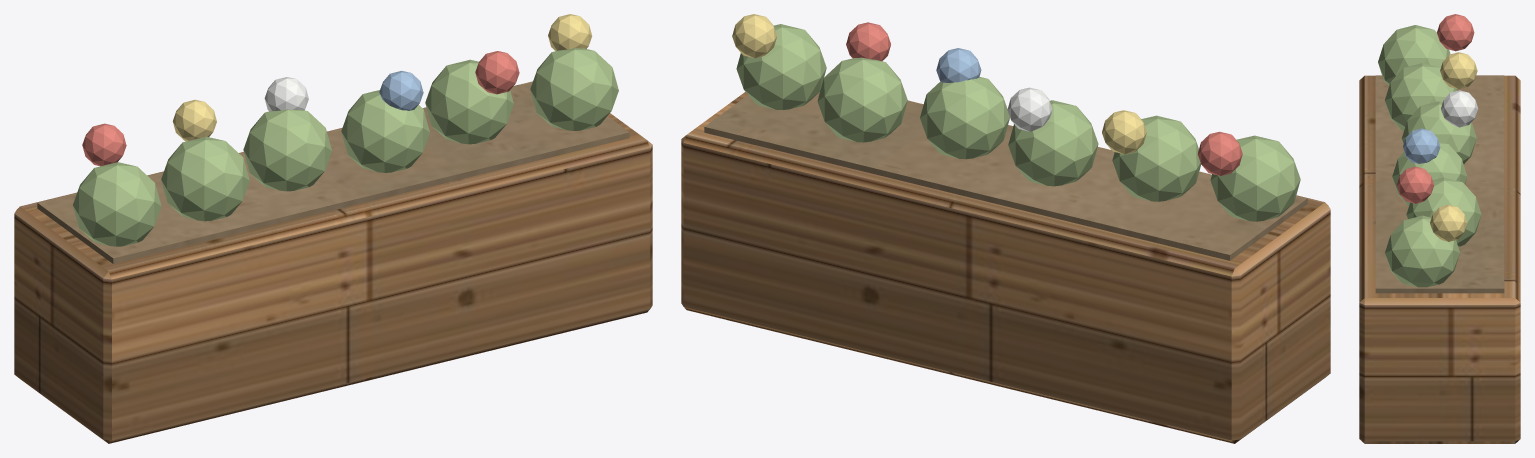
Rendered from planter.glb.
3 renders of one model, left to right at view 1: azimuth 30°, elevation 25°; view 2: azimuth 150°, elevation 25°; view 3: azimuth 270°, elevation 25°, orthographic. The views are drawn at different scales.
Visible parts, largest first — view 1: planter_wood, planter_leaf2, planter_dirt, planter_food_r, planter_food_y, planter_cloth_b, planter_paint_w; view 2: planter_wood, planter_leaf2, planter_dirt, planter_food_y, planter_food_r, planter_paint_w, planter_cloth_b; view 3: planter_wood, planter_leaf2, planter_dirt, planter_food_r, planter_food_y, planter_paint_w, planter_cloth_b.
Boxes of the visible parts, left/top/right/bottom form: planter_wood: left=14, top=81, right=652, bottom=443; planter_leaf2: left=73, top=48, right=618, bottom=246; planter_dirt: left=37, top=82, right=629, bottom=263; planter_food_r: left=82, top=51, right=519, bottom=166; planter_food_y: left=172, top=14, right=592, bottom=141; planter_cloth_b: left=379, top=70, right=423, bottom=110; planter_paint_w: left=264, top=77, right=308, bottom=111; planter_wood: left=681, top=92, right=1330, bottom=443; planter_leaf2: left=736, top=24, right=1300, bottom=221; planter_dirt: left=704, top=92, right=1307, bottom=260; planter_food_y: left=732, top=14, right=1146, bottom=154; planter_food_r: left=846, top=22, right=1242, bottom=175; planter_paint_w: left=1007, top=87, right=1052, bottom=131; planter_cloth_b: left=936, top=48, right=981, bottom=82; planter_wood: left=1359, top=75, right=1520, bottom=443; planter_leaf2: left=1378, top=25, right=1481, bottom=287; planter_dirt: left=1375, top=75, right=1504, bottom=293; planter_food_r: left=1396, top=14, right=1474, bottom=203; planter_food_y: left=1430, top=52, right=1477, bottom=241; planter_paint_w: left=1441, top=90, right=1478, bottom=127; planter_cloth_b: left=1403, top=128, right=1440, bottom=163.
Size of the model in its own units: 1 by 0.465 by 0.3.
Materials: 7 (2 with a texture image).
